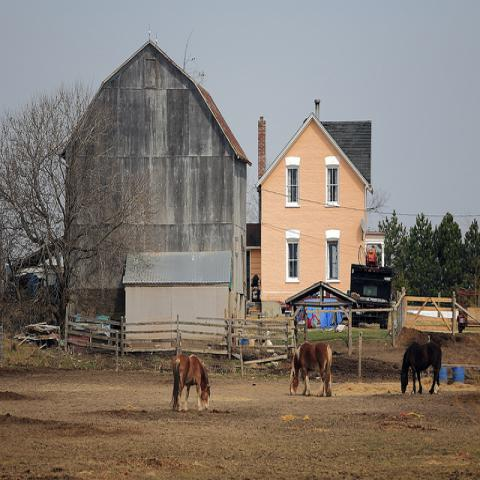truck: (349, 245, 392, 330)
